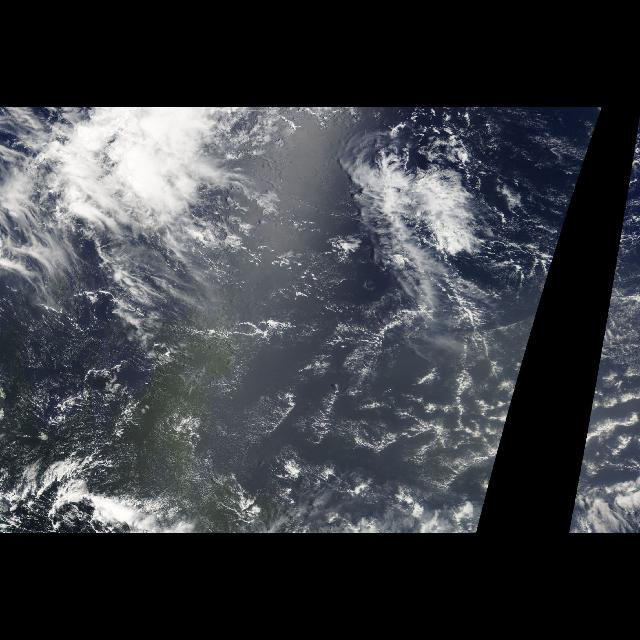Flower: (578, 368, 638, 479), (488, 368, 522, 479)
Sugar: (12, 290, 518, 482)
